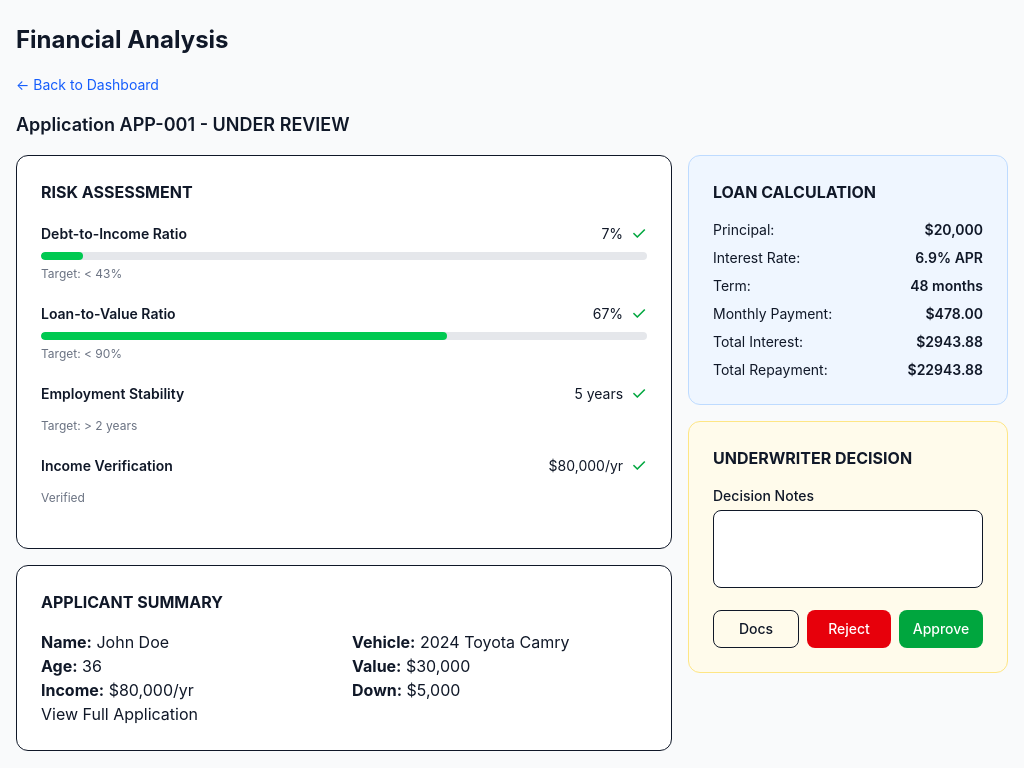
Test: UnderwriterAnalysisPage › reject modal › opens and closes reject modal
The width and height of the screenshot is (1024, 768).
Click the button "Reject" at coordinates (849, 629), box top-left (807, 610), bottom-right (891, 648)
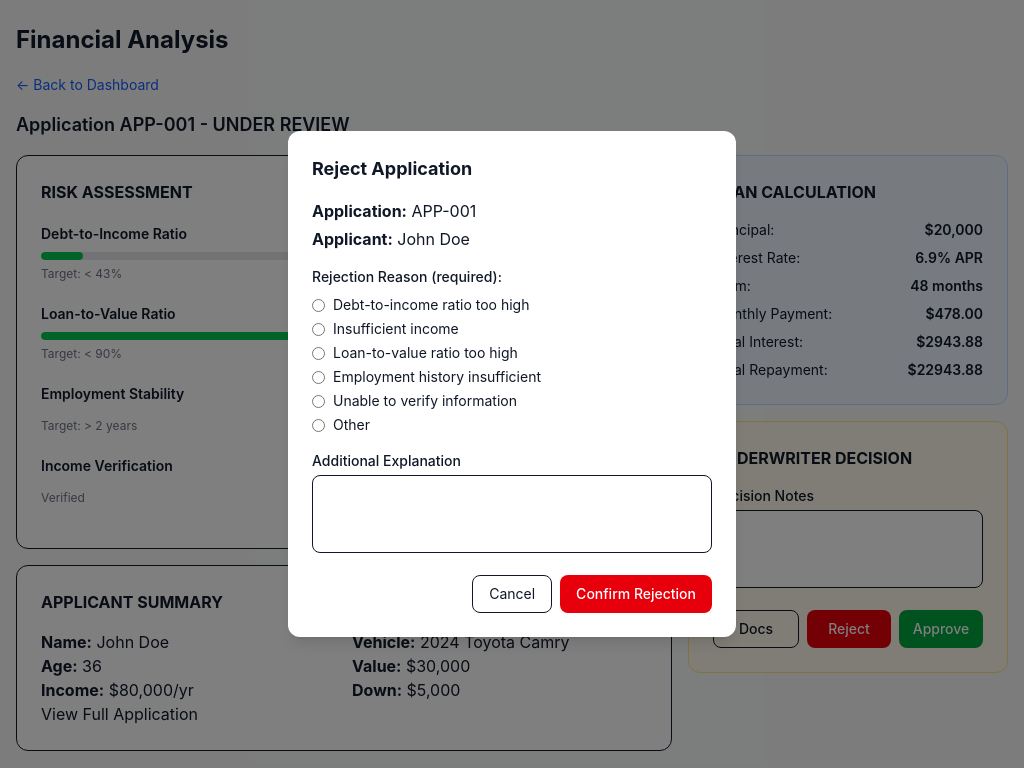
Expected: the heading "Reject Application" is shown, top-left (312, 158), bottom-right (472, 179)
Click the button "Cancel" at coordinates (512, 594), box top-left (472, 575), bottom-right (552, 613)
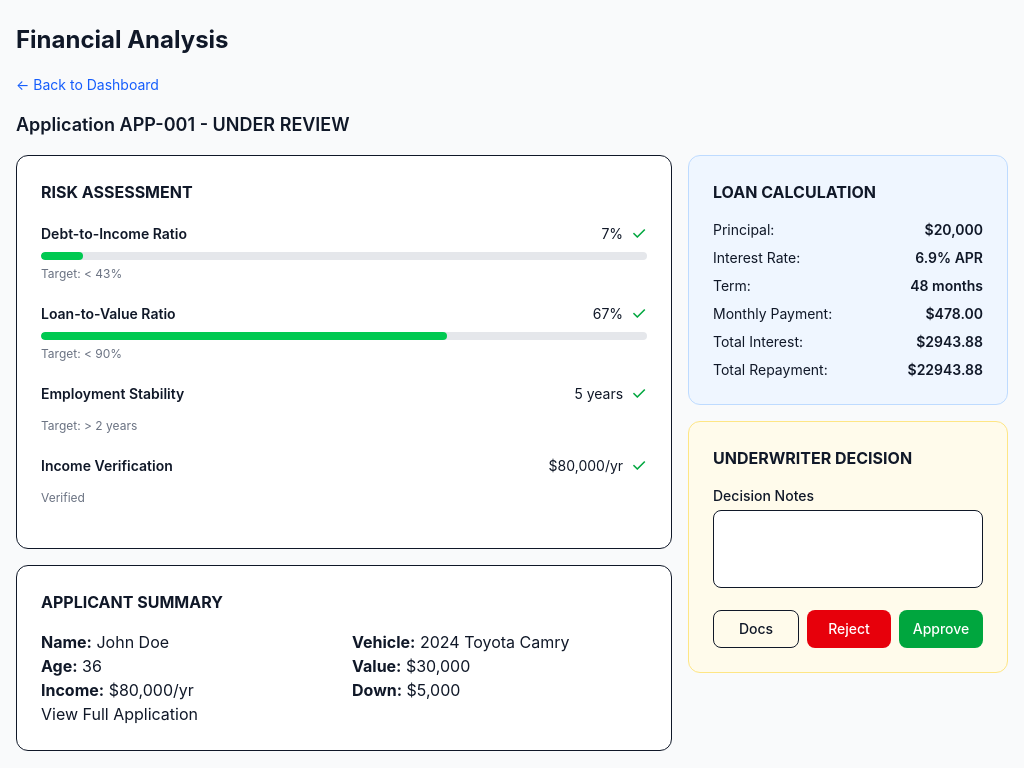
Expected: the heading "Reject Application" is gone
